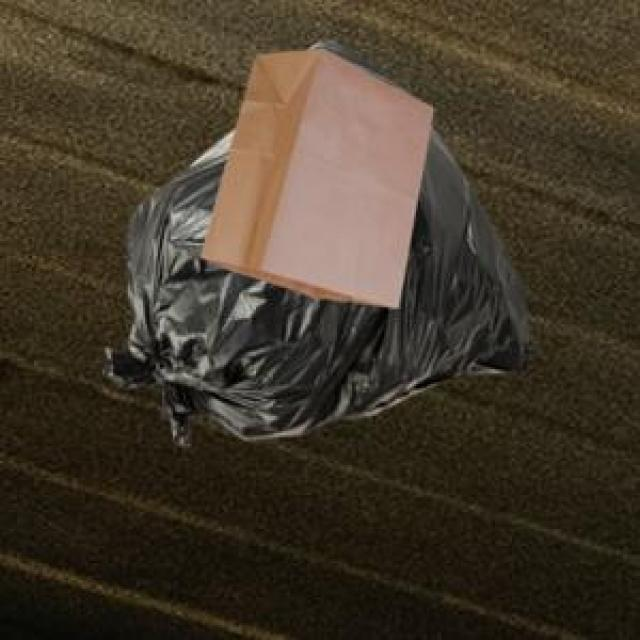miscellaneous trash: (100, 38, 531, 442)
paper: (196, 45, 429, 303)
